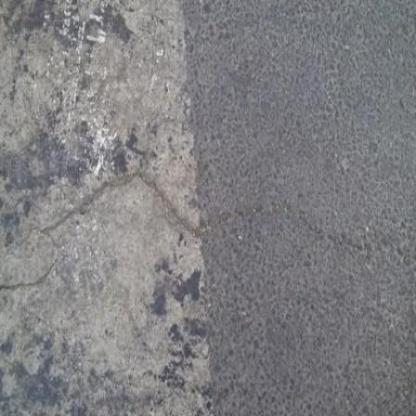Cracks: (3, 151, 416, 266)
